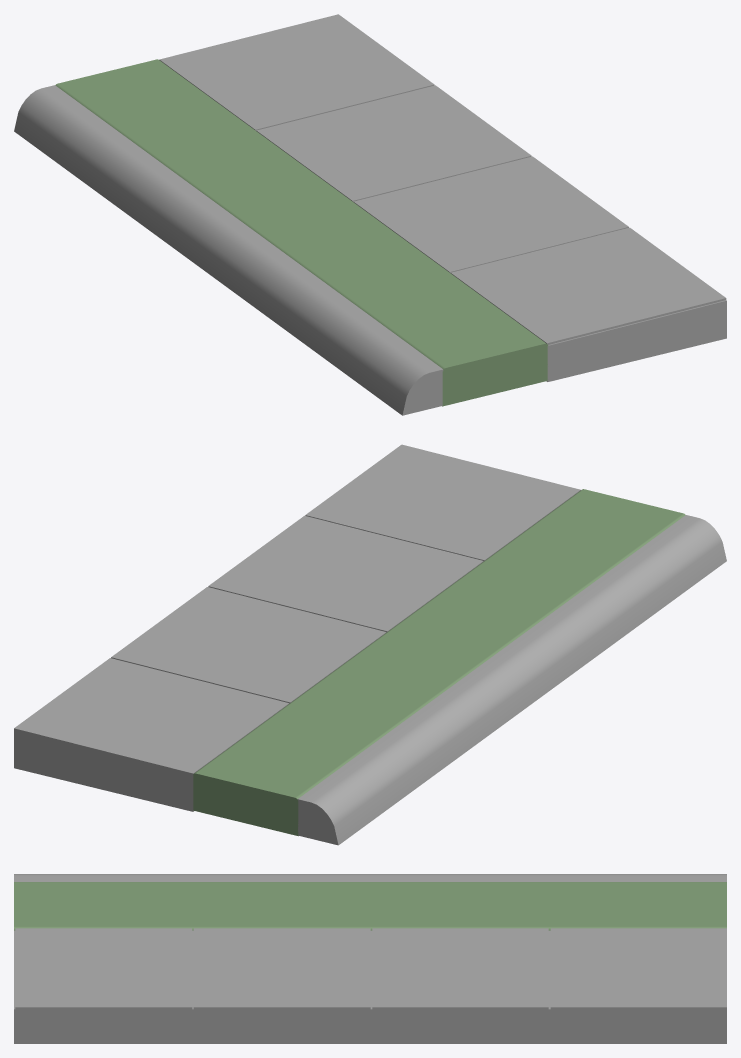
Rendered from sideWalk_modular.fbx.
The picture shows the model from 3 angles, top to bottom: view 1: azimuth 30°, elevation 25°; view 2: azimuth 150°, elevation 25°; view 3: azimuth 270°, elevation 25°; orthographic projection. The views are drawn at different scales.
Parts seen in each view (by area): view 1: SideWalk_Modular; view 2: SideWalk_Modular; view 3: SideWalk_Modular.
Boxes of the visible parts, x1,y1,x2,y2 form: SideWalk_Modular: (14, 14, 726, 415); SideWalk_Modular: (14, 444, 726, 845); SideWalk_Modular: (14, 874, 726, 1043).
Bounding box in the file's own units: 490 × 57.63 × 1016.
